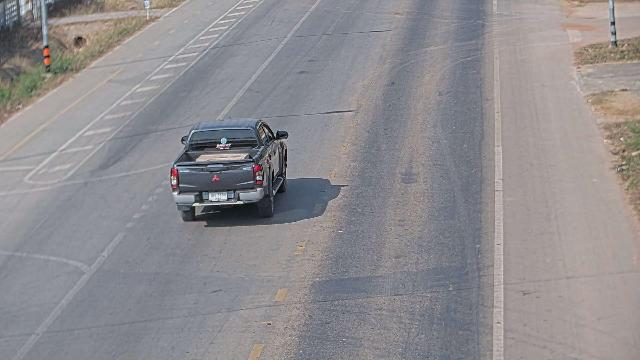pickup-truck: (169, 117, 289, 222)
